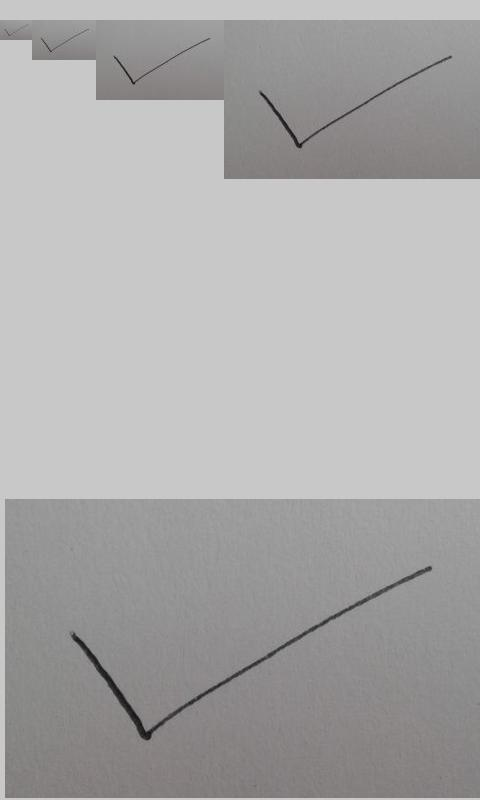check_box: (74, 566, 430, 742), (259, 55, 452, 148), (113, 37, 210, 85), (40, 28, 90, 53), (4, 24, 28, 37)
